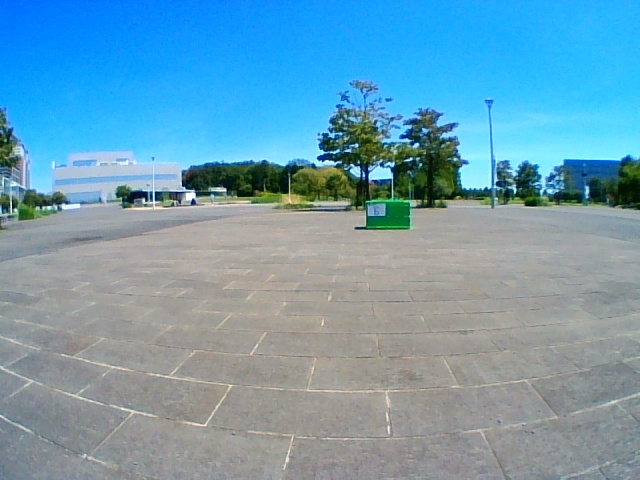green_box: (366, 200, 410, 229)
tag: (369, 203, 385, 216)
